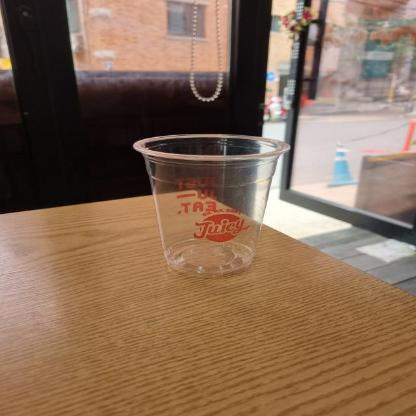Plastic Cup: (128, 131, 290, 282)
